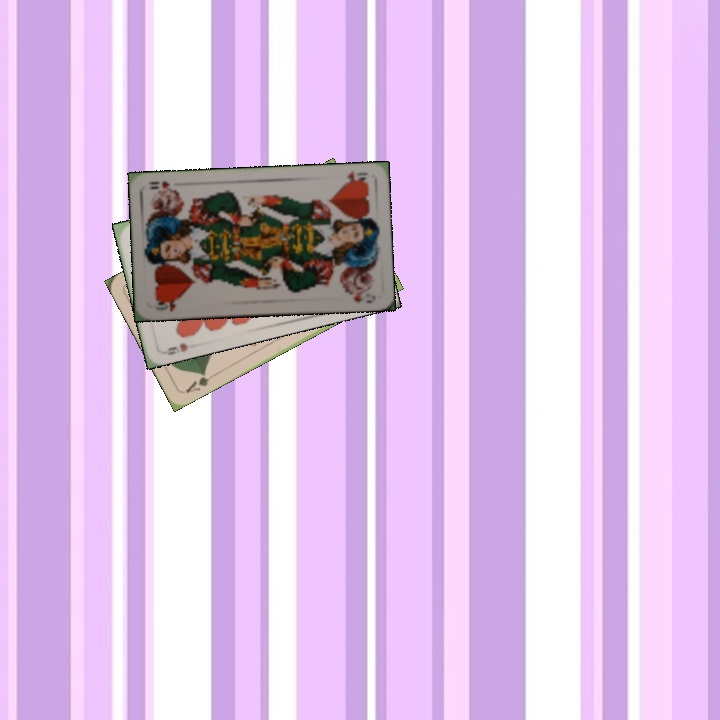GA: (181, 368, 218, 396)
H9: (159, 339, 191, 358)
HO: (338, 166, 370, 186), (152, 295, 181, 314)
